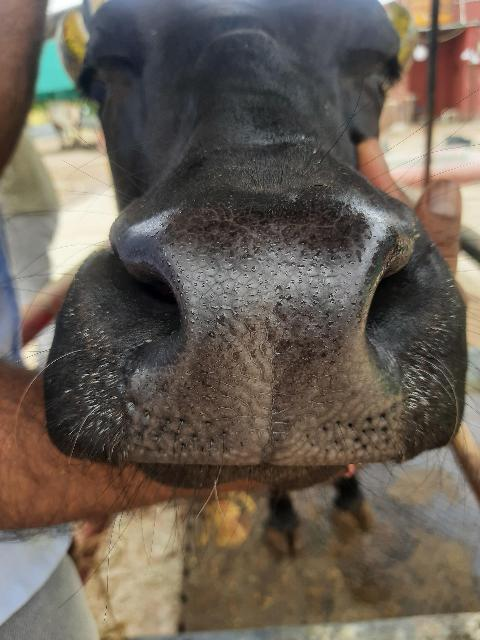Muzzle: (131, 216, 389, 452)
